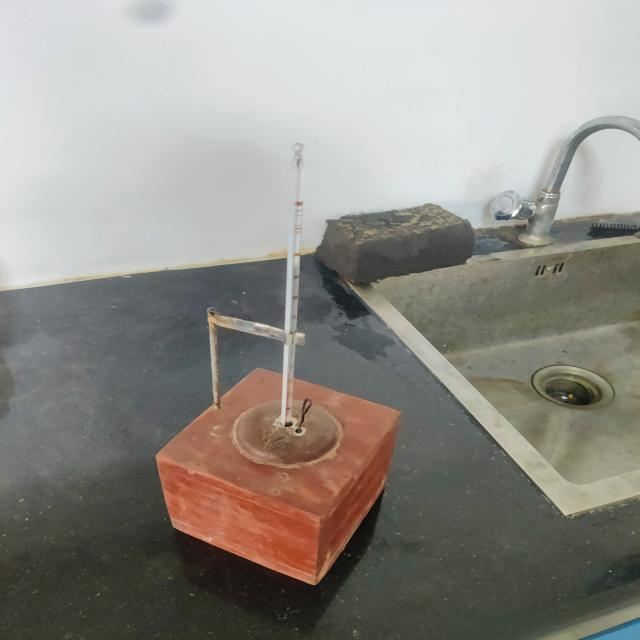Calorimeter: (129, 120, 483, 626)
